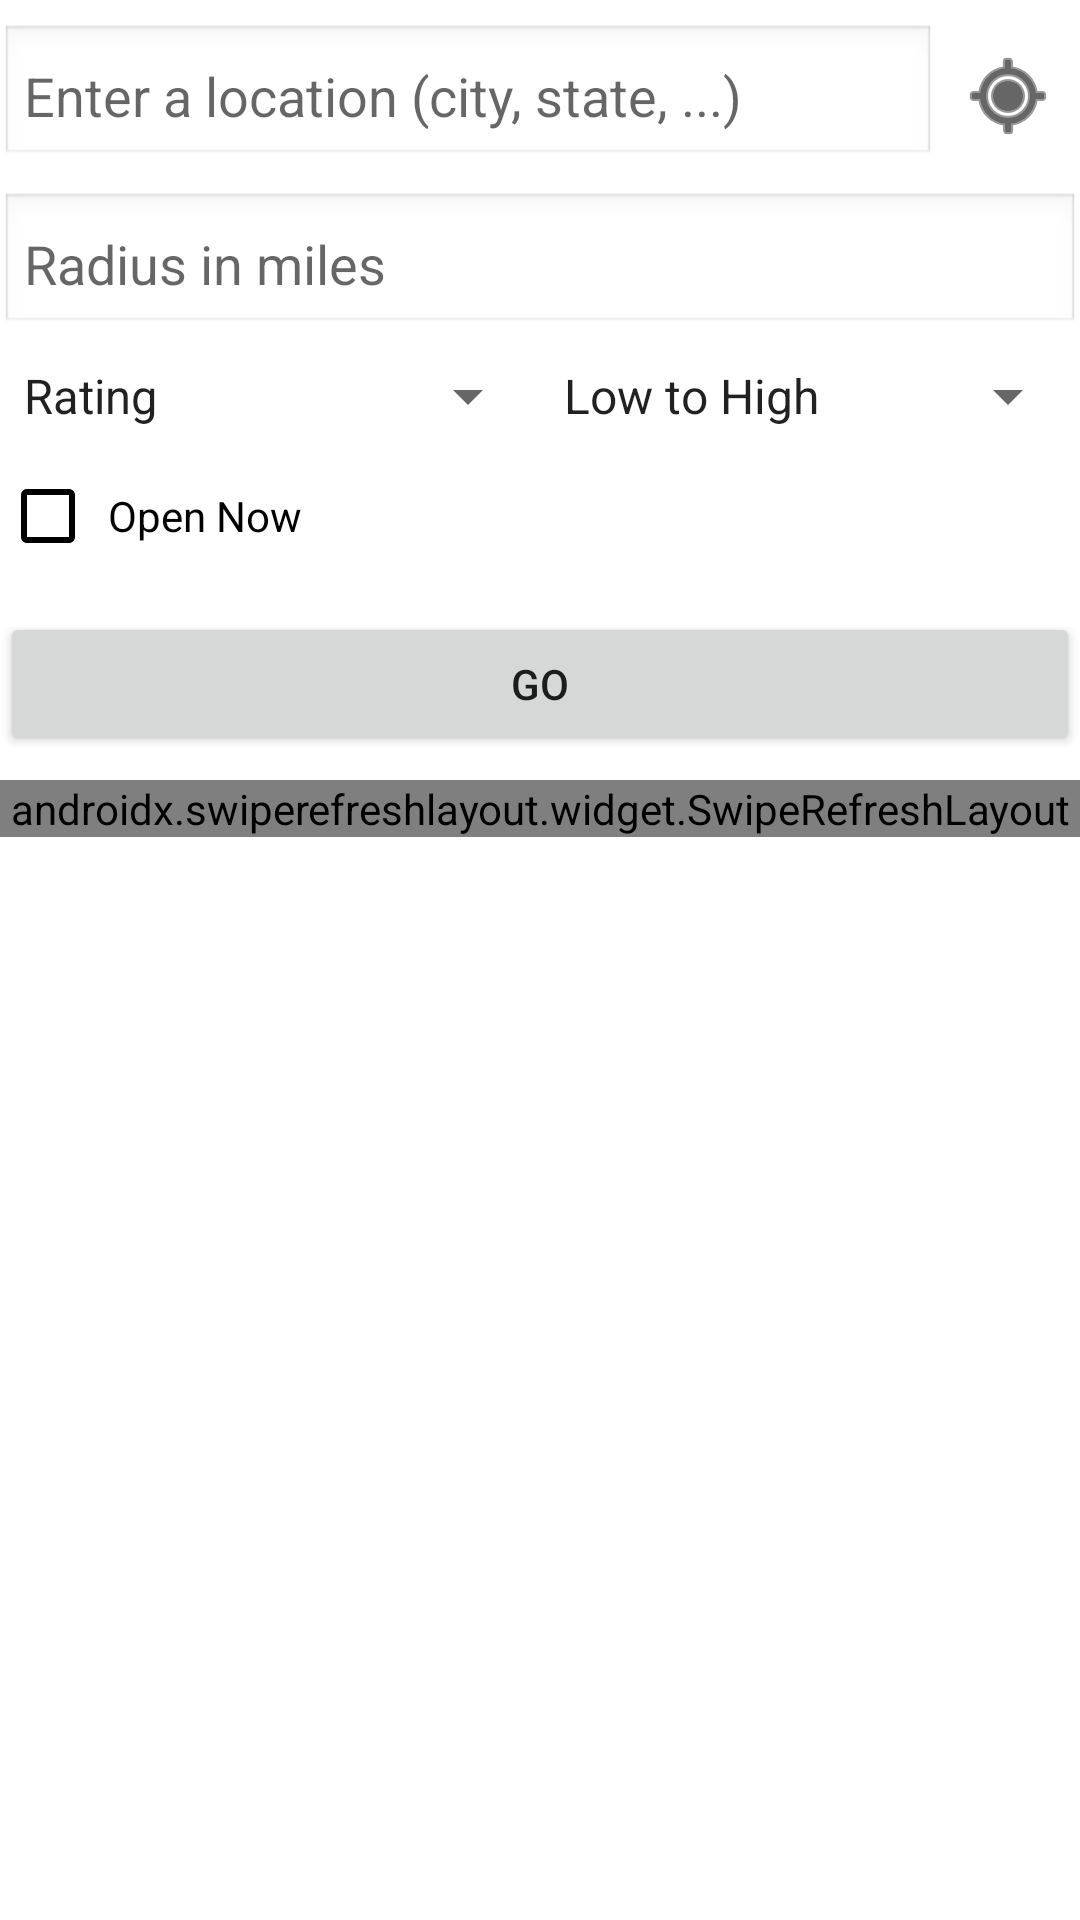

Icon bounding boxes for this 1080x1920 phone screenshot, format region(x1, y1, x2, y2):
Use current location: region(970, 58, 1046, 134)
